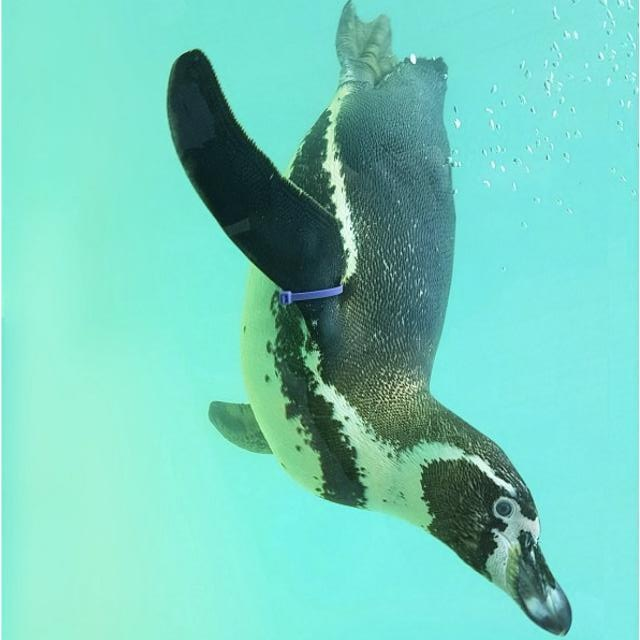penguin: (166, 2, 573, 635)
